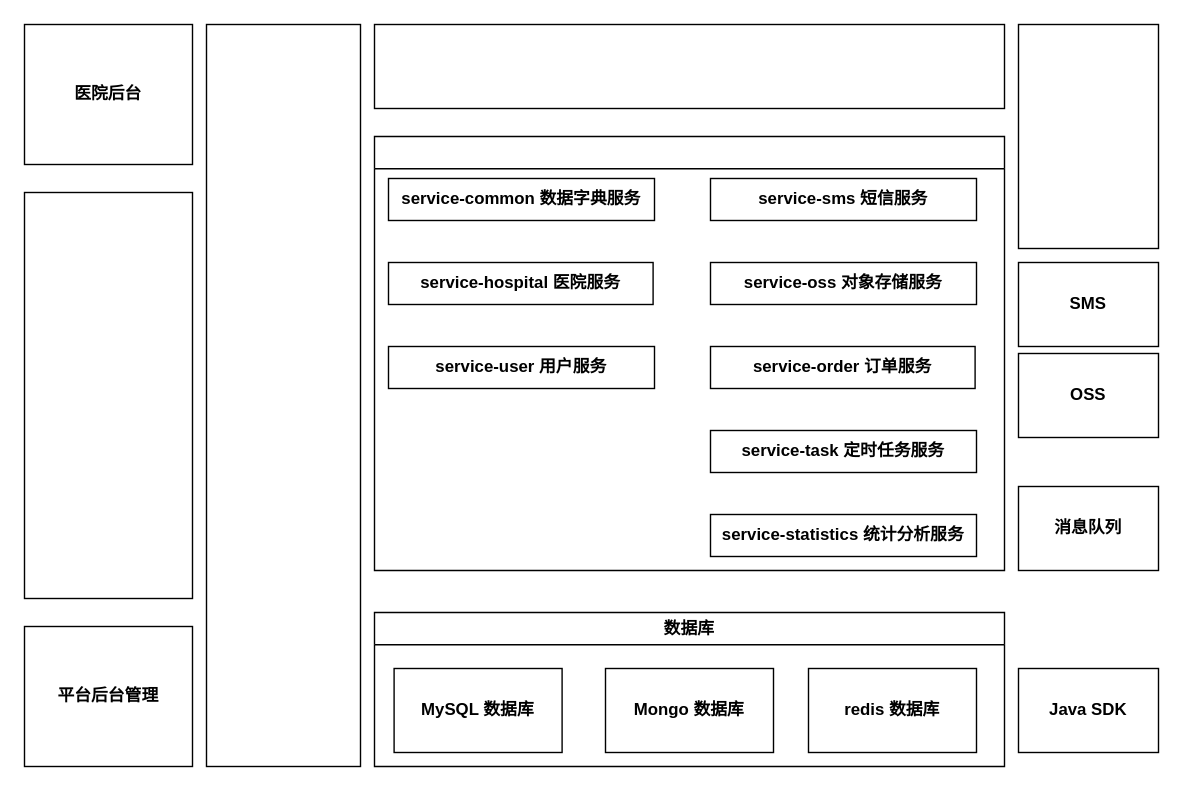
Image size: 1183x791. Some labels were removed from this diagram. Here are the shapes that lost their labels. From the top down, the box of each, then its label:
(373, 23, 1004, 108): Nacos 注册中心
(1017, 23, 1158, 248): 第三方开放平台
(373, 135, 1004, 570): 微服务们
(23, 191, 192, 598): 前台门户
(205, 23, 360, 766): 网关
